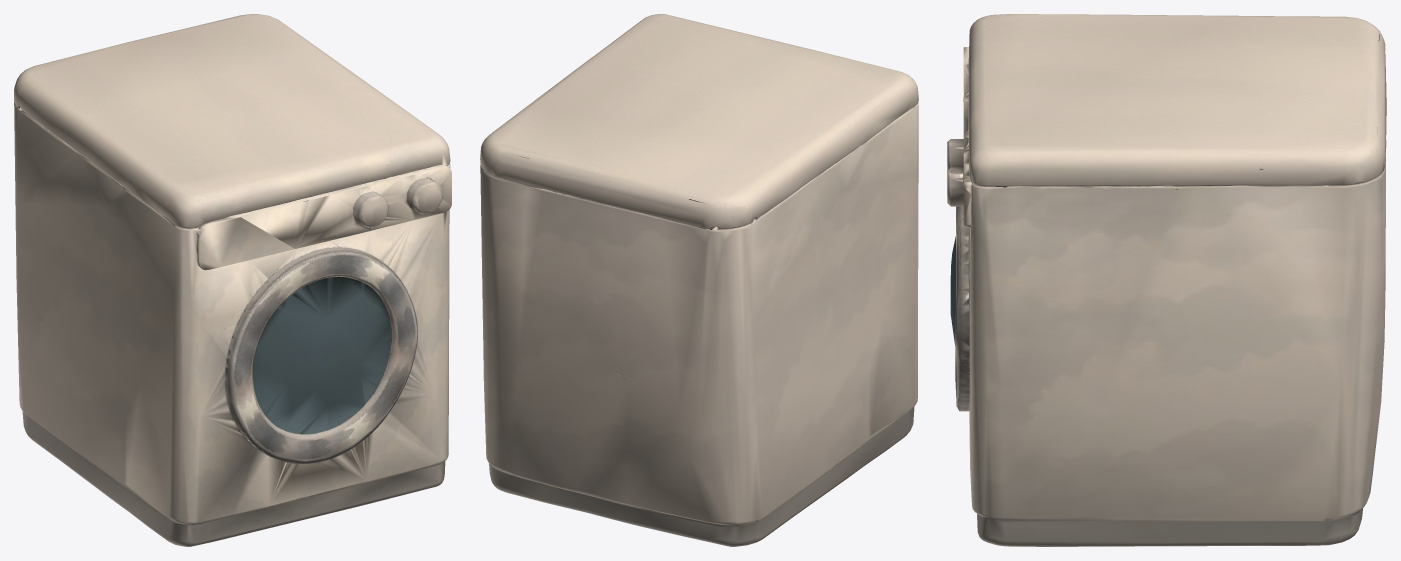
The model's file is washer.glb.
3 views of the same model, side by side, from view 1: azimuth 30°, elevation 25°; view 2: azimuth 150°, elevation 25°; view 3: azimuth 270°, elevation 25° (orthographic). The views are drawn at different scales.
Parts seen in each view (by area): view 1: washer; view 2: washer; view 3: washer.
Boxes of the visible parts, bbox=[...] form: washer: bbox=[14, 14, 451, 546]; washer: bbox=[480, 14, 918, 546]; washer: bbox=[947, 14, 1386, 546].
Bounding box in the file's own units: 0.709 × 0.865 × 0.8748.
1 material, 1 textured.
